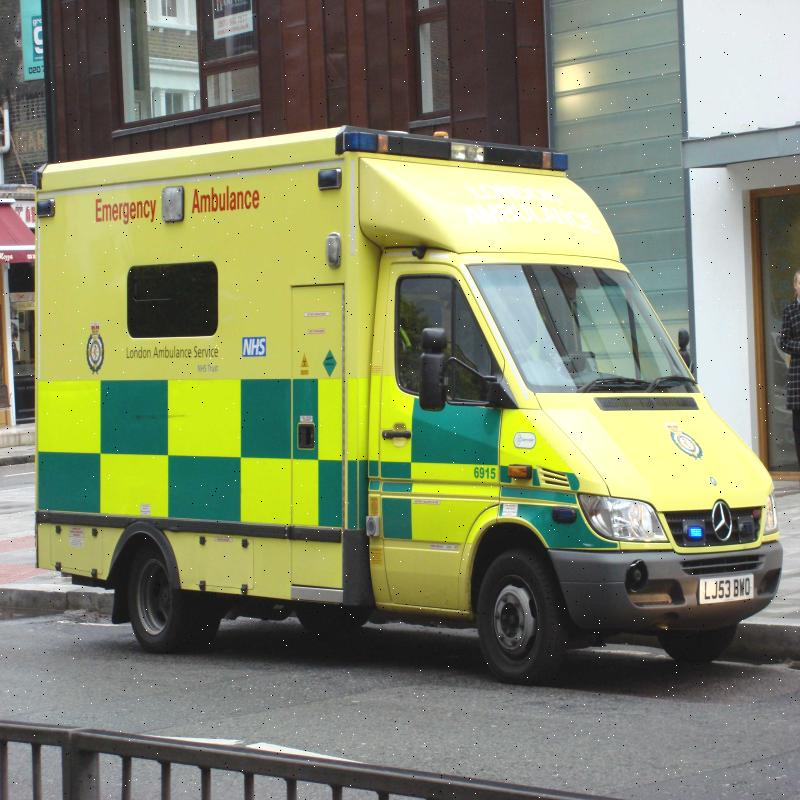AmbulanceSiren: (320, 104, 583, 186)
